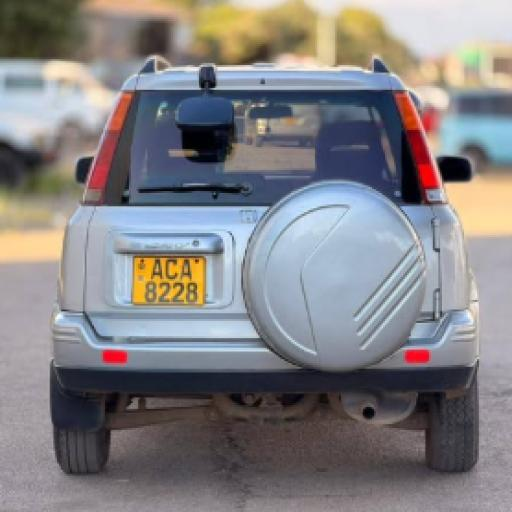number-plates: (131, 255, 206, 303)
